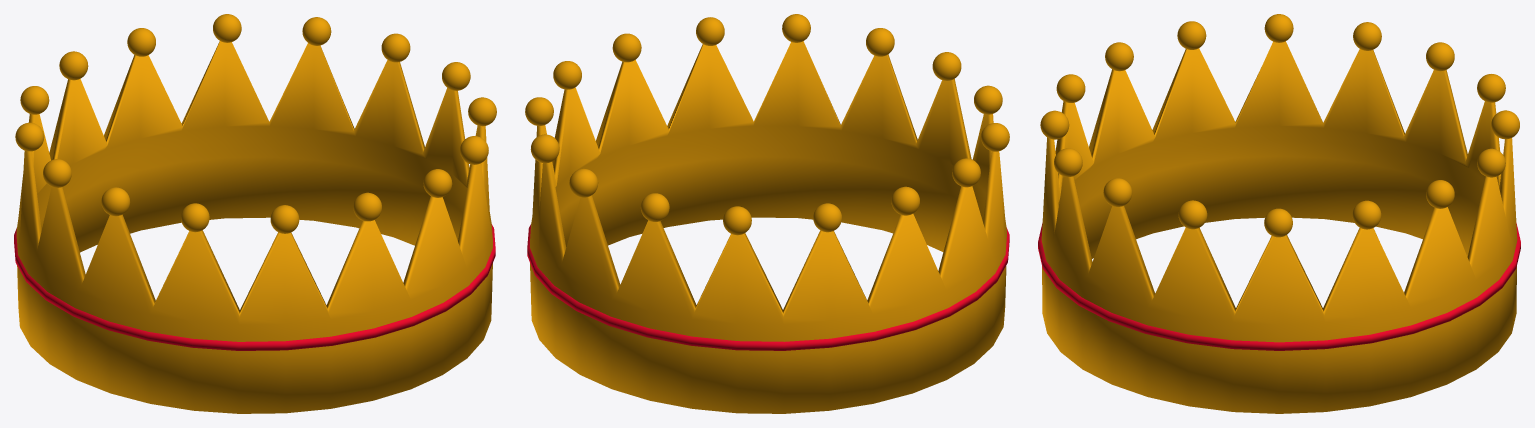
Rendered from crown.fbx.
3 views of the same model, side by side, from view 1: azimuth 30°, elevation 25°; view 2: azimuth 150°, elevation 25°; view 3: azimuth 270°, elevation 25° (orthographic).
Visible parts, largest first — view 1: Crown; view 2: Crown; view 3: Crown.
Part boxes in pixels (x1,y1,x2,y2): Crown: [14, 14, 496, 413]; Crown: [525, 14, 1009, 413]; Crown: [1038, 14, 1520, 413].
Bounding box in the file's own units: 43.98 × 20.04 × 43.39.
